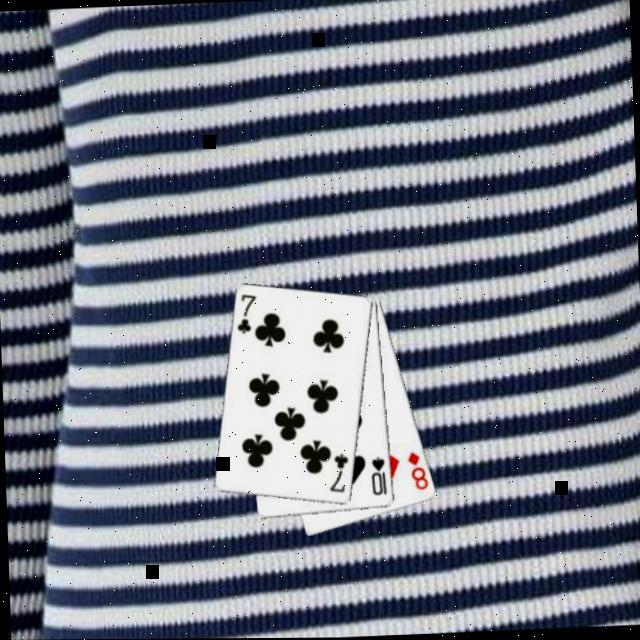10S: (366, 453, 389, 498)
7C: (324, 450, 352, 495), (231, 290, 259, 335)
8D: (403, 448, 431, 492)
